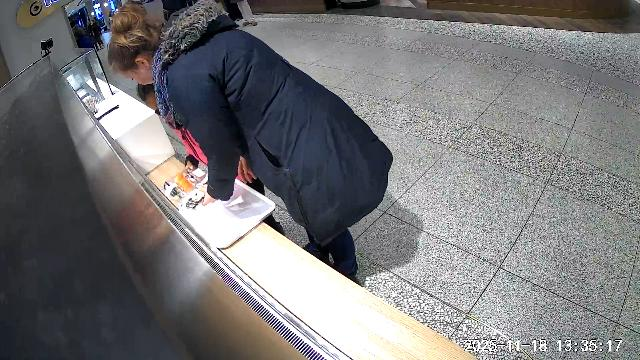sushi-box: (164, 164, 207, 200)
